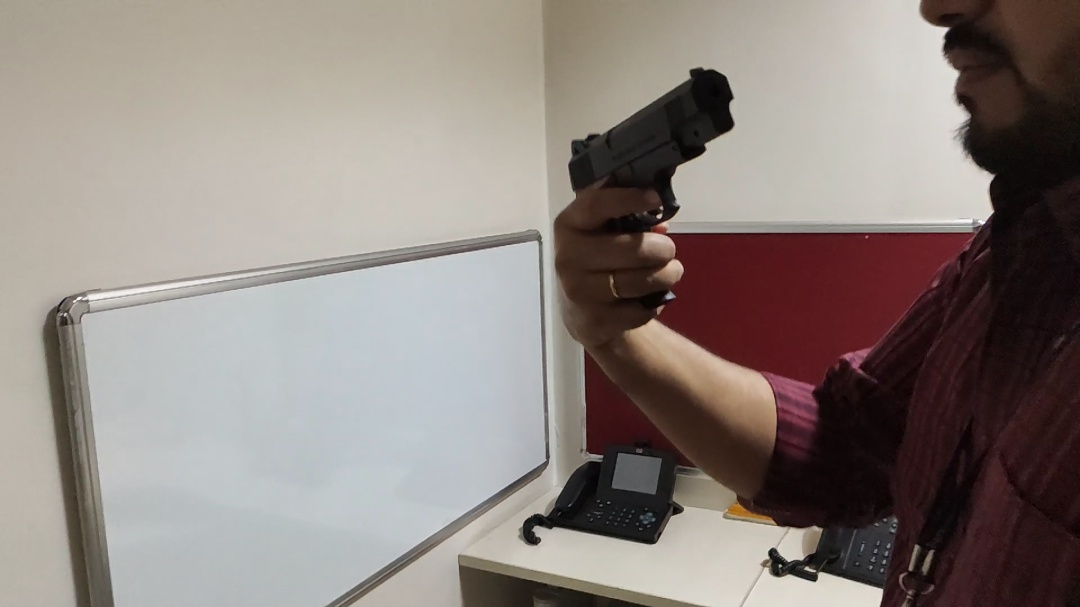gun: (544, 65, 773, 314)
